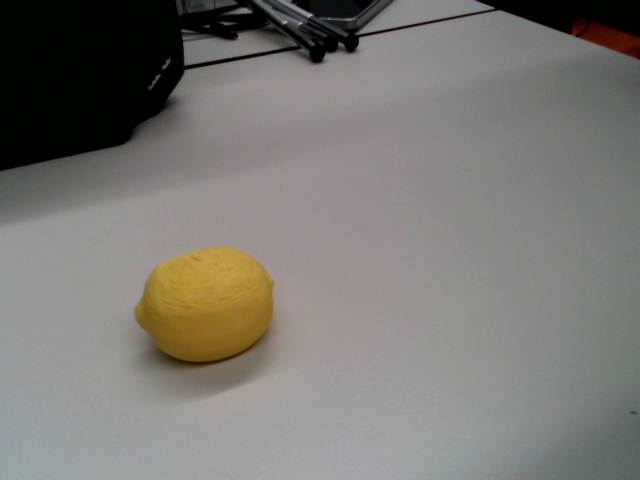lemon: (124, 236, 287, 374)
